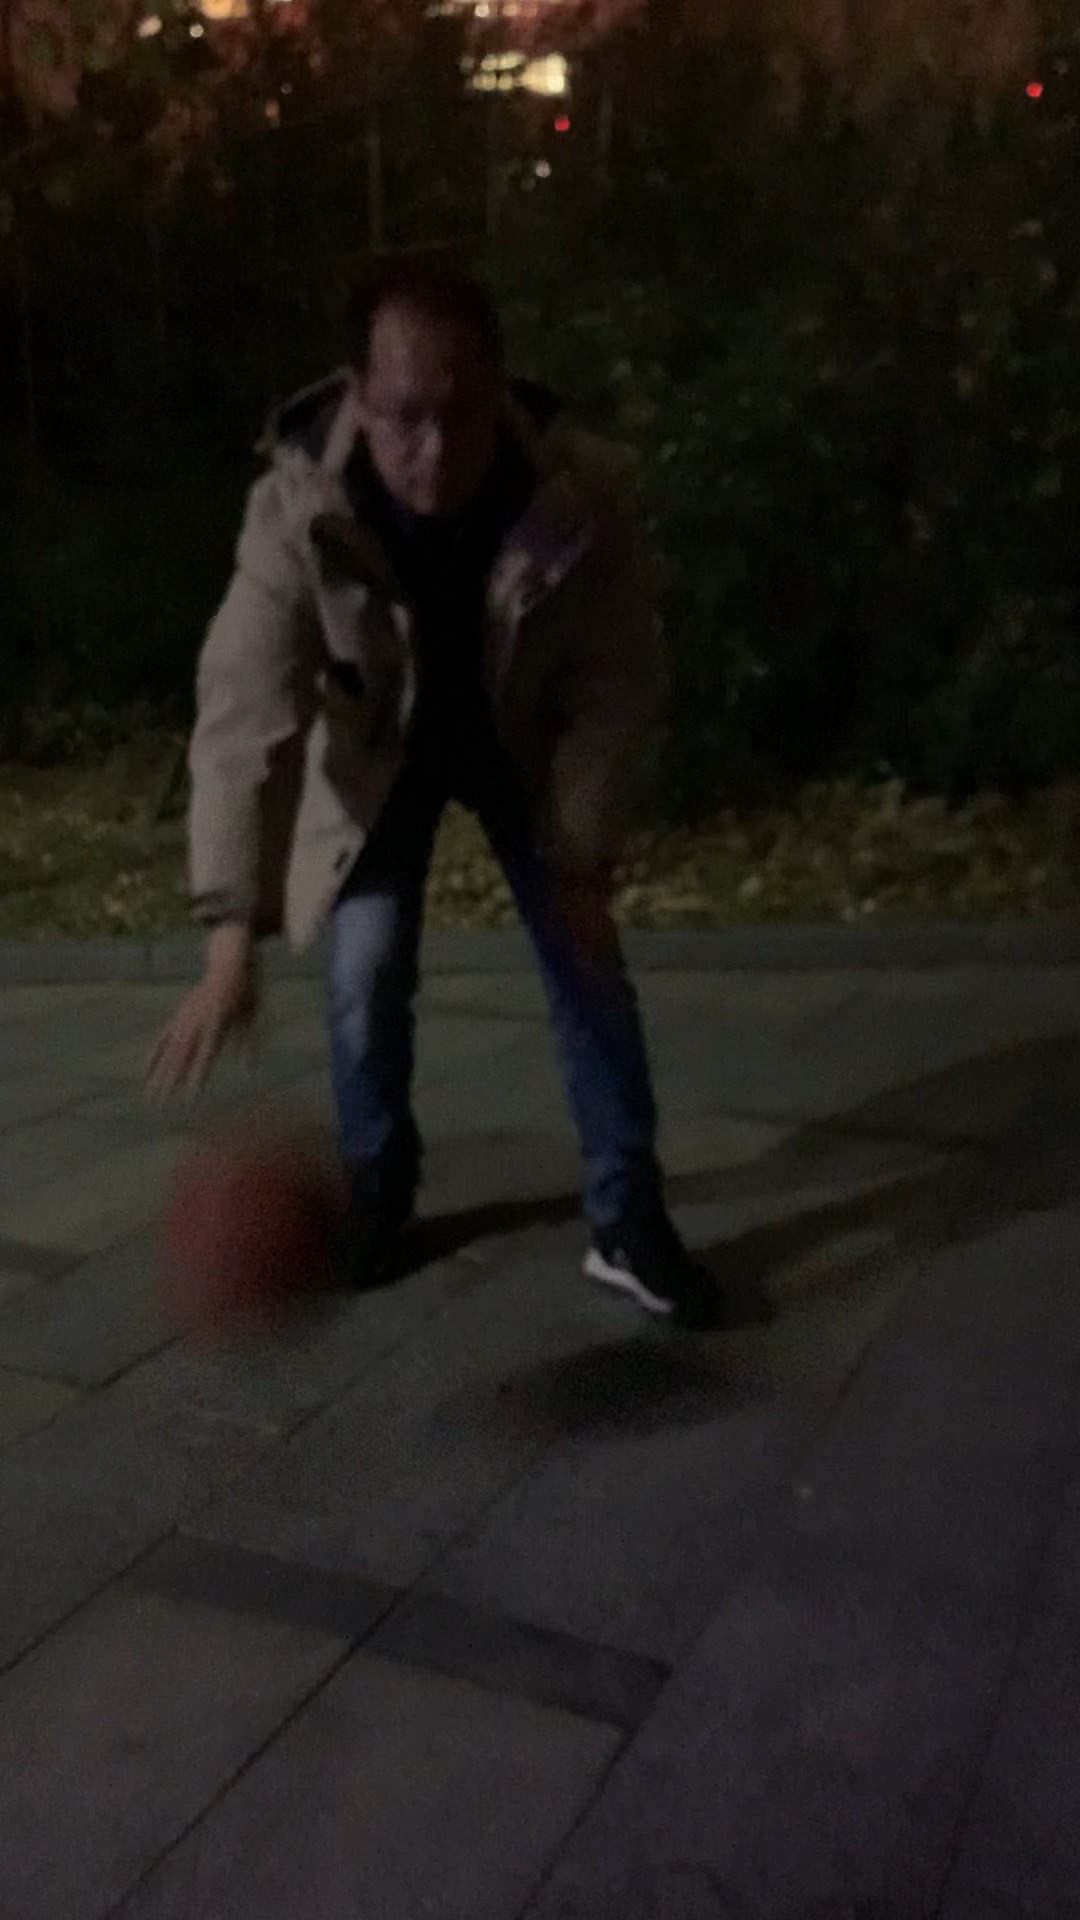ball: (161, 1131, 381, 1346)
